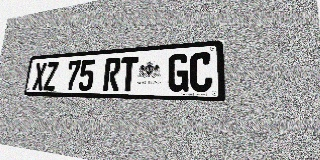5: (78, 59, 95, 91)
7: (64, 60, 81, 91)
C: (189, 52, 212, 92)
G: (167, 53, 189, 92)
R: (103, 58, 121, 91)
T: (119, 57, 138, 91)
X: (32, 63, 47, 90)
Z: (43, 62, 59, 90)
